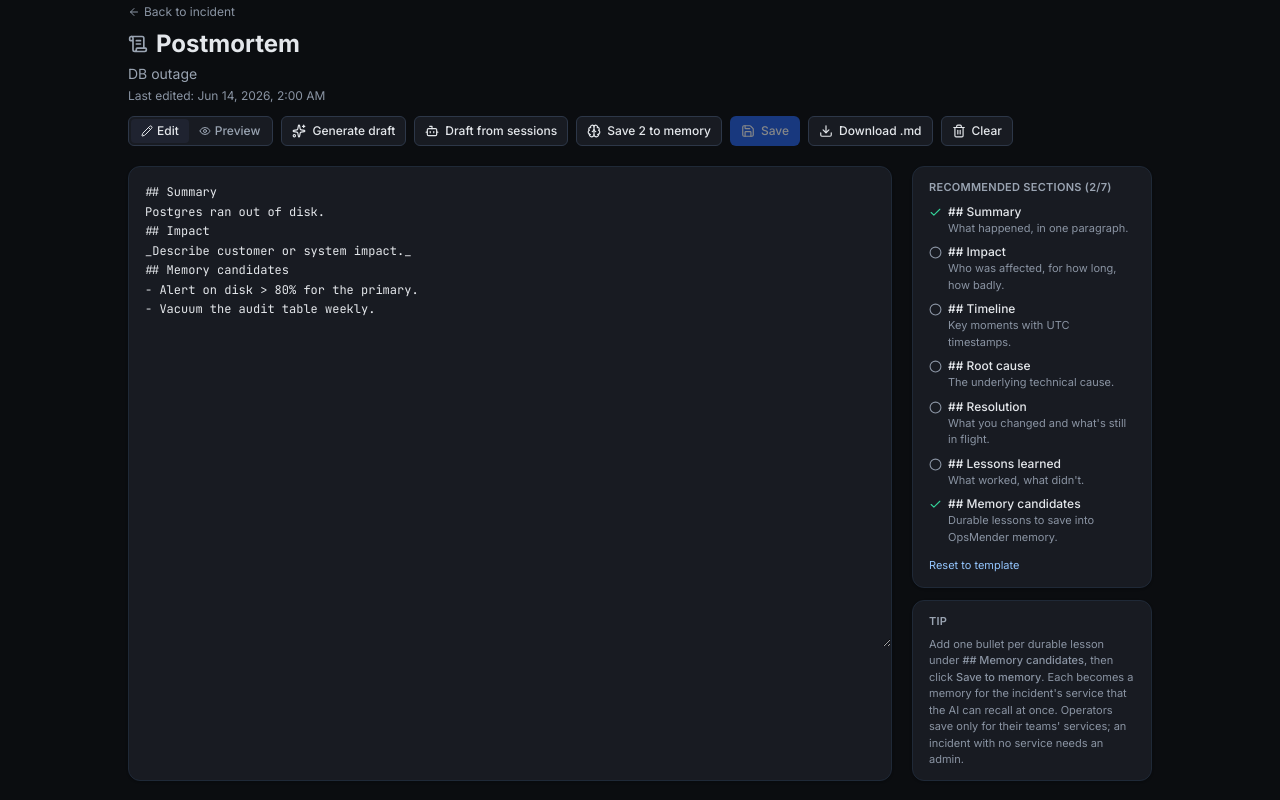
Scenario: Postmortem page Phase 2 polish › drafts from AI sessions via the backend and loads it into the editor
Click the button "Draft from sessions" at (491, 131), box [414,116,568,146]
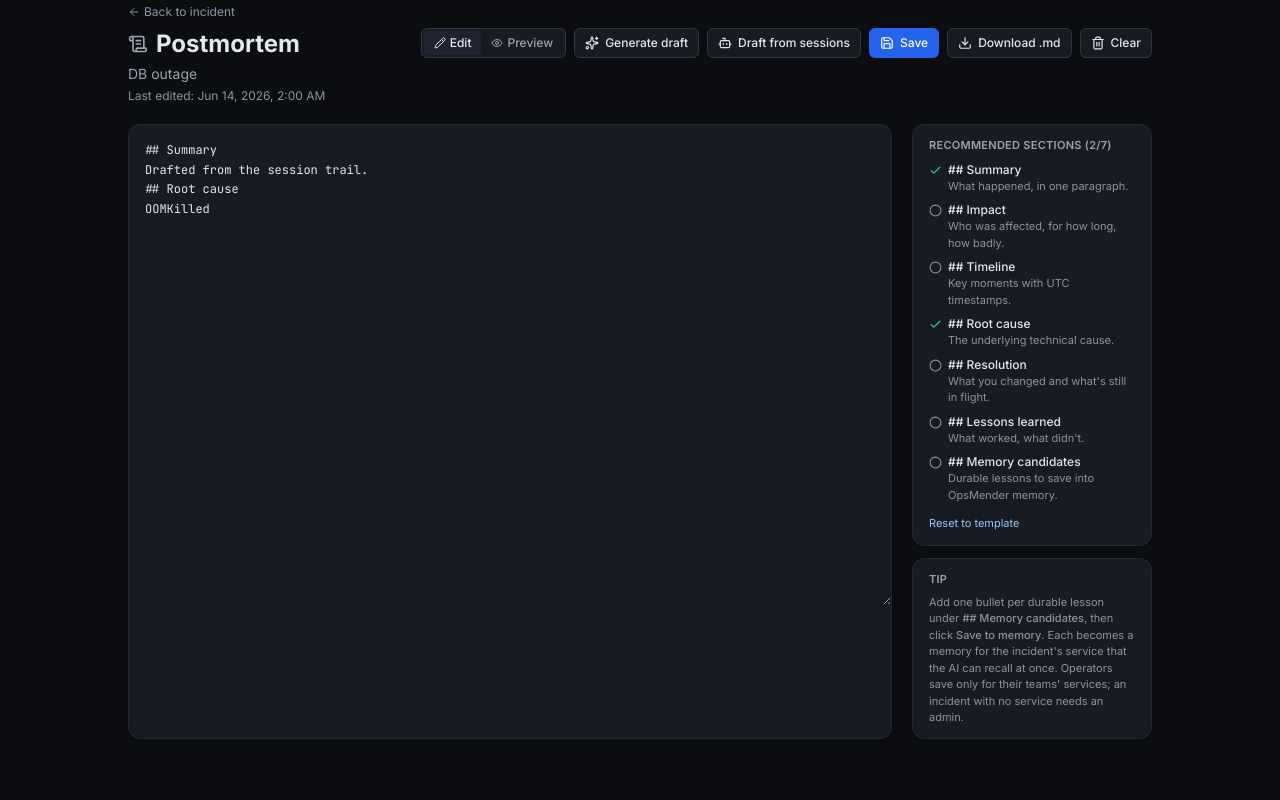
Check: the text box showing "Drafted from the session trail" is shown, box [129,125,891,605]
